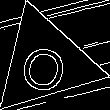O_N: (18, 32, 73, 93)
